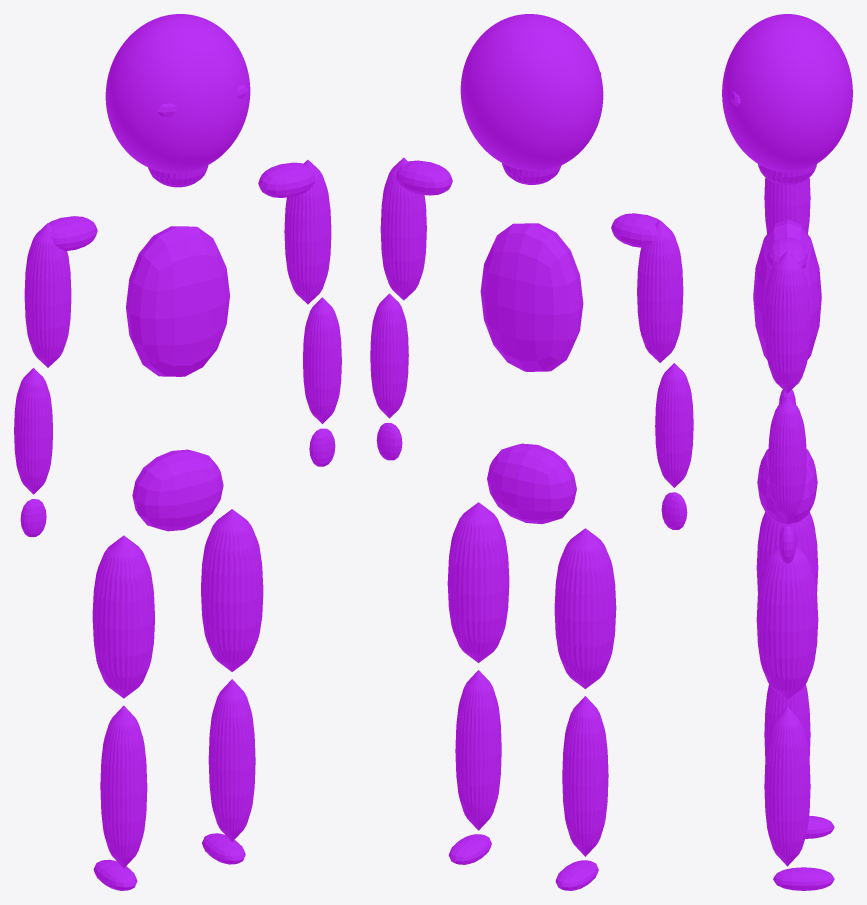
Rendered from char_zara_night_003.glb.
3 views of the same model, side by side, from view 1: azimuth 30°, elevation 25°; view 2: azimuth 150°, elevation 25°; view 3: azimuth 270°, elevation 25° (orthographic).
Visible parts, largest first — view 1: char_zara_night_003; view 2: char_zara_night_003; view 3: char_zara_night_003.
Boxes of the visible parts, x1,y1,x2,y2 form: char_zara_night_003: [14, 14, 341, 890]; char_zara_night_003: [370, 14, 693, 890]; char_zara_night_003: [722, 14, 852, 890].
Size of the model in its own units: 0.8941 by 2.27 by 0.3199.
